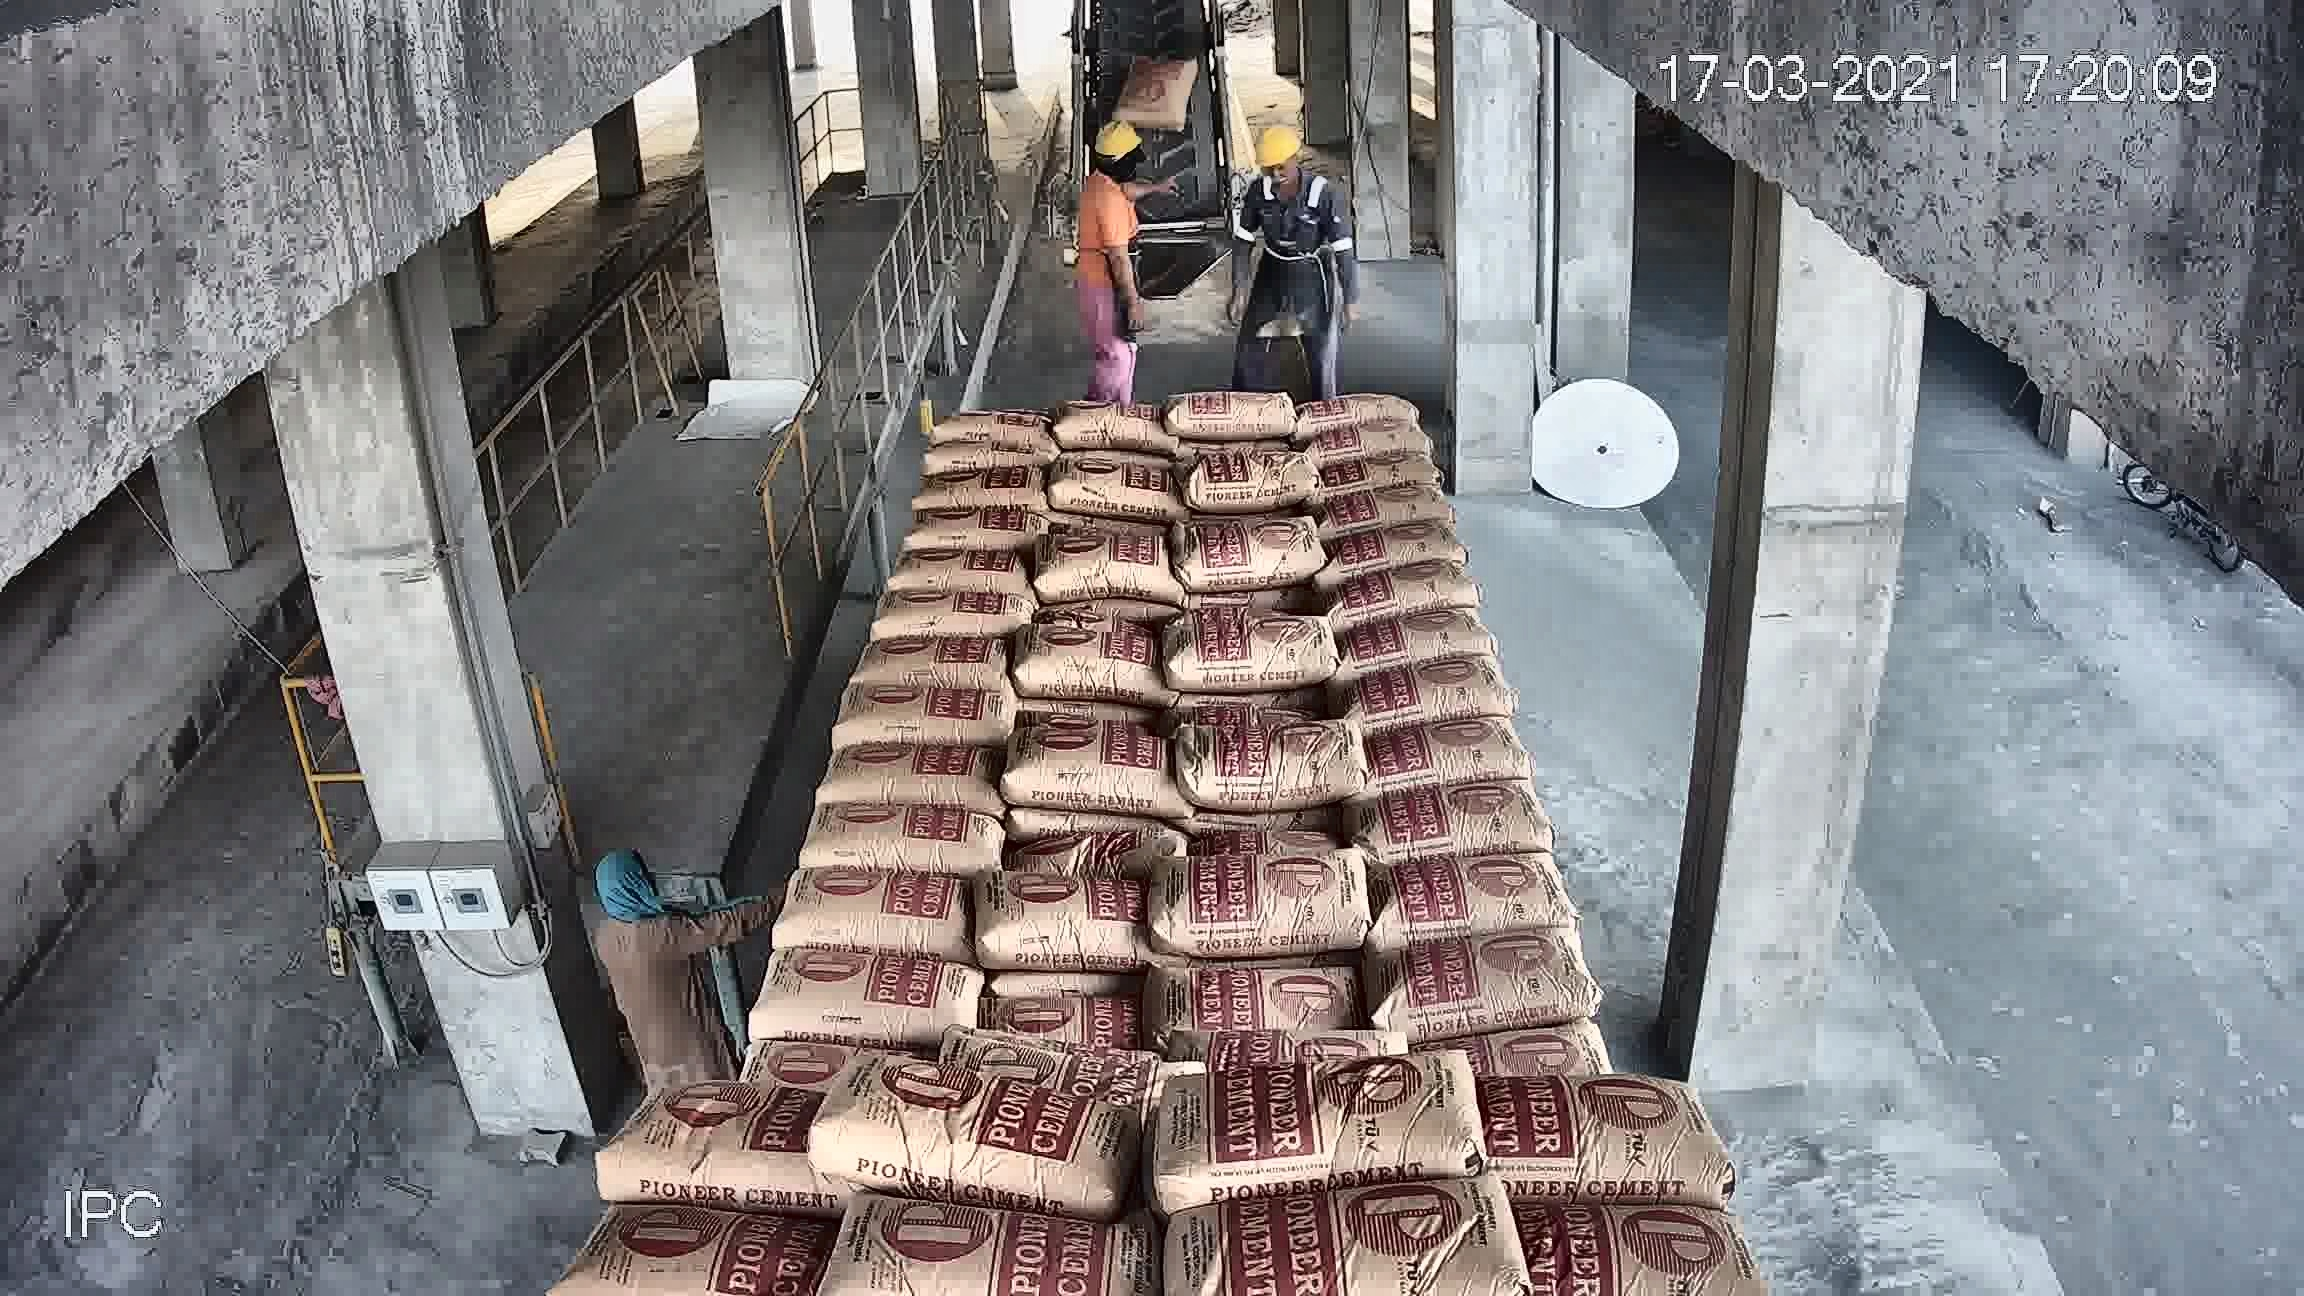bag: (1087, 581, 1287, 783), (1081, 149, 1207, 267)
bag_h: (639, 949, 897, 1090), (590, 1084, 802, 1225)
belt: (986, 51, 1310, 600)
